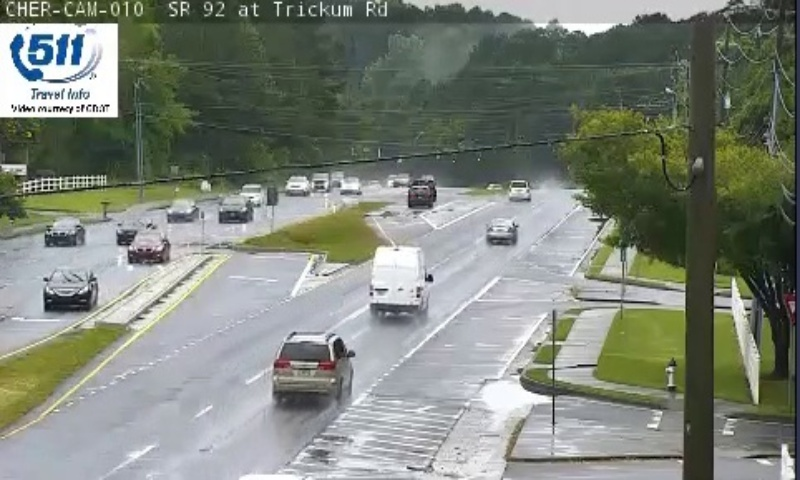car: (273, 335, 351, 391), (487, 220, 516, 241), (509, 180, 529, 200)
van: (370, 247, 428, 310)
